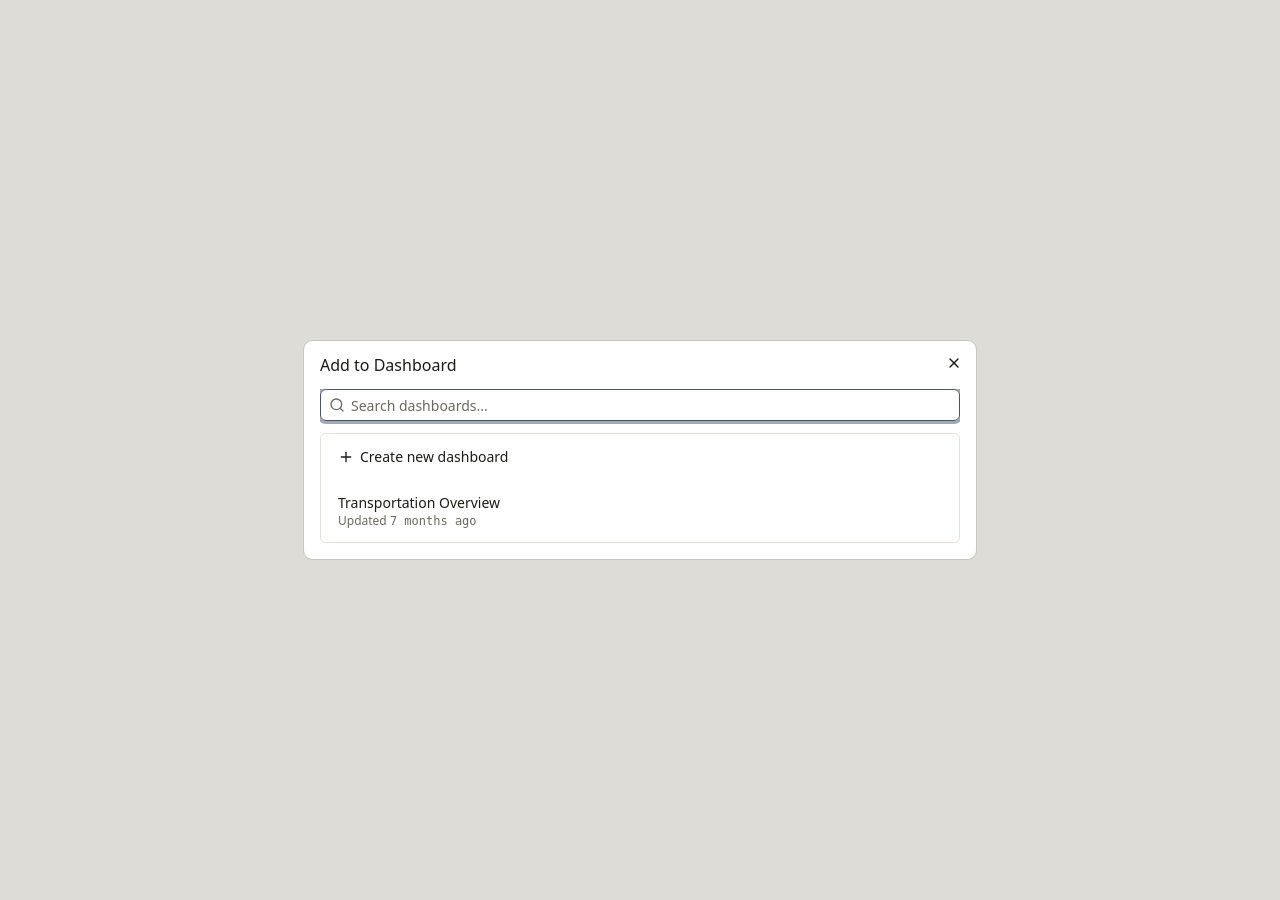
Test: AddToDashboardDialog › pre-fills the name from a search that matched nothing
This screenshot has width=1280, height=900.
Type "Q3 metrics" into the field with placeholder "Search dashboards..." at (652, 405), box [345,387,959,423]
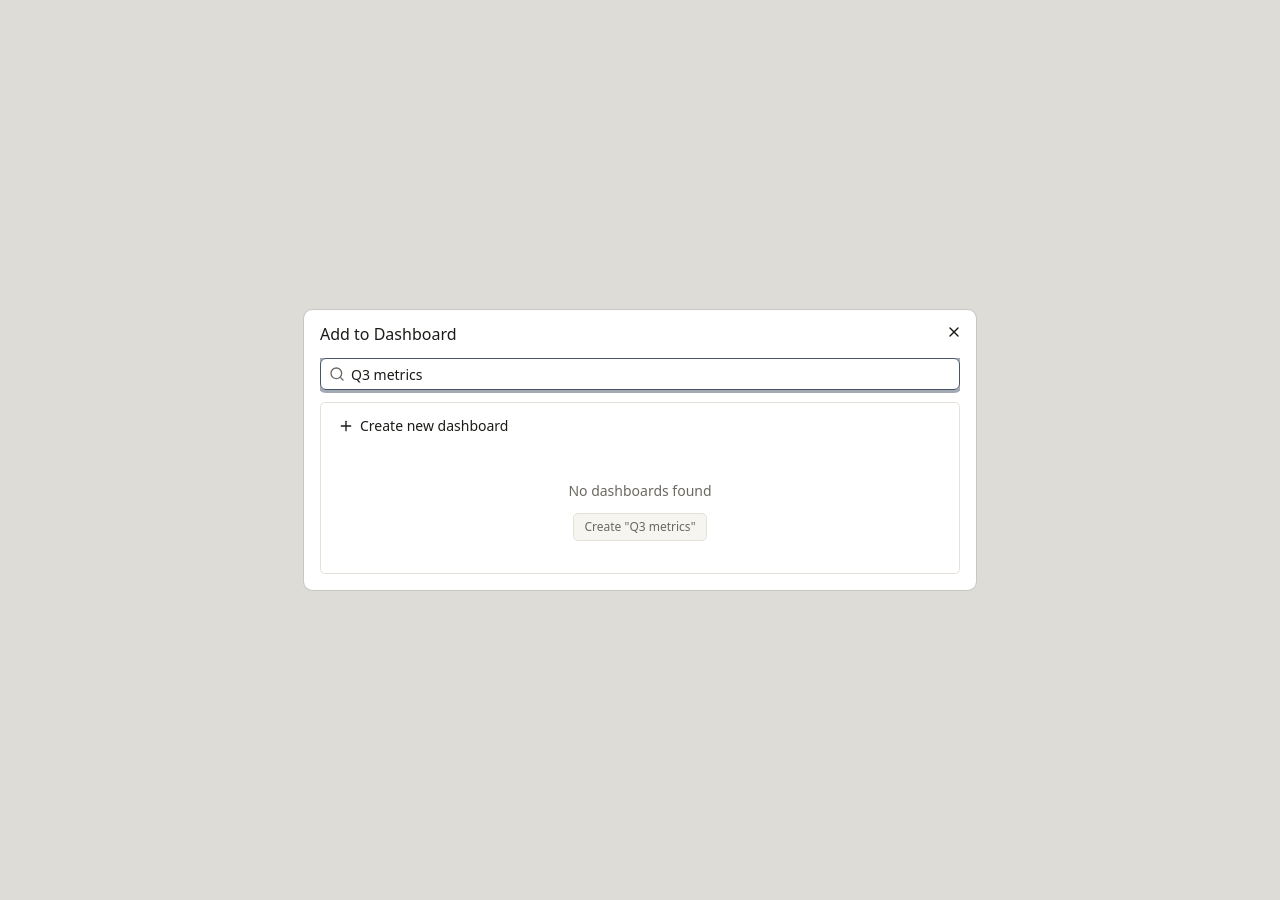
Click the button "Create \"Q3 metrics\"" at (640, 527), box [574,513,707,541]
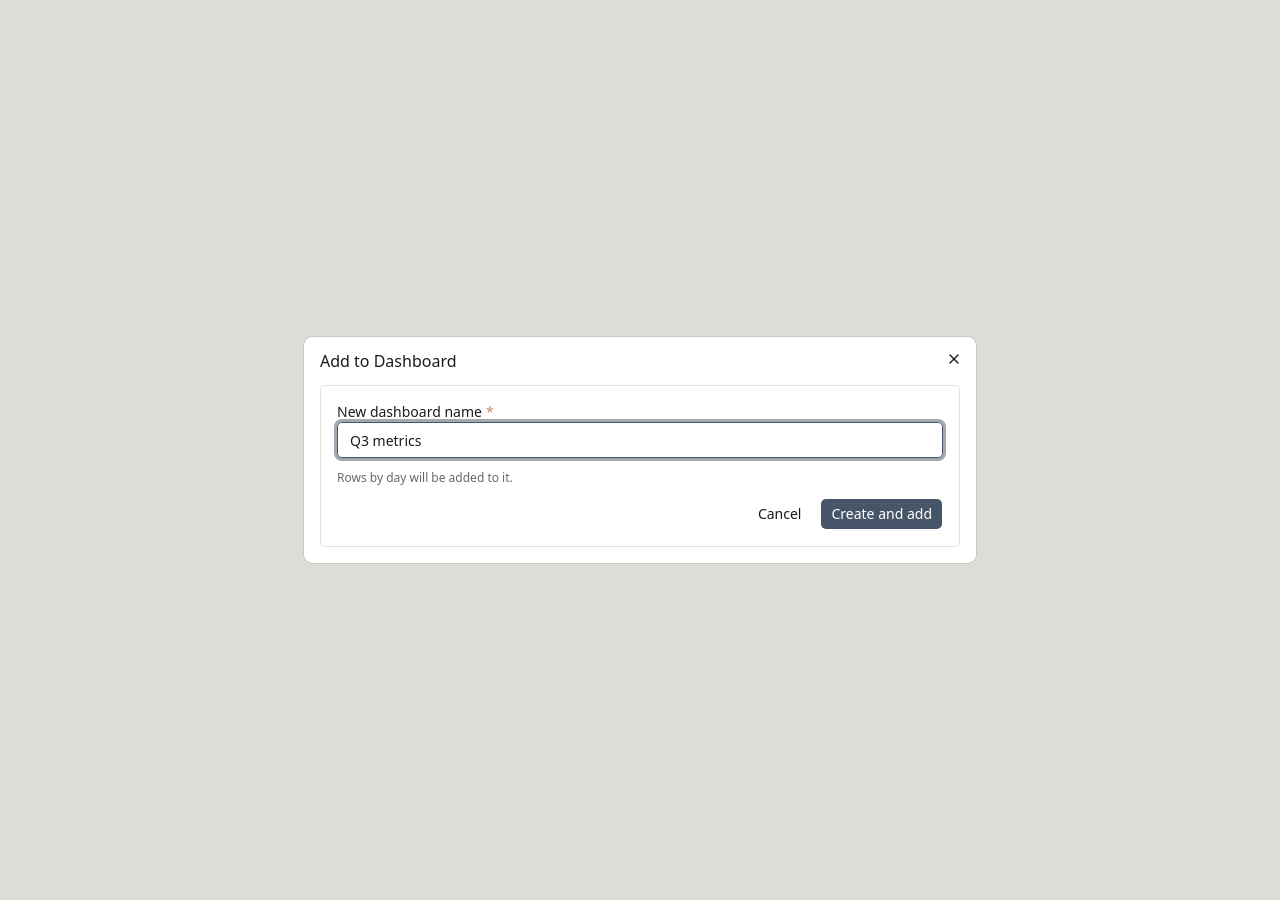
Check: the field labelled "New dashboard name*" holds "Q3 metrics", box [337,422,943,458]
